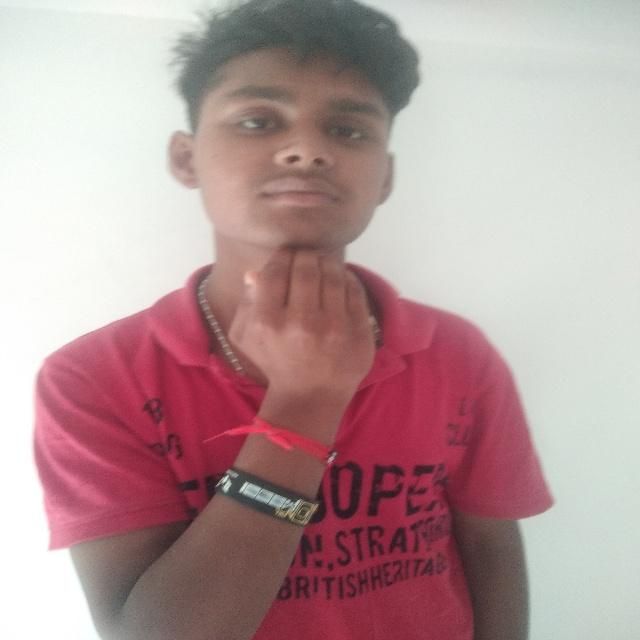Chin Flick: (155, 9, 427, 427)
